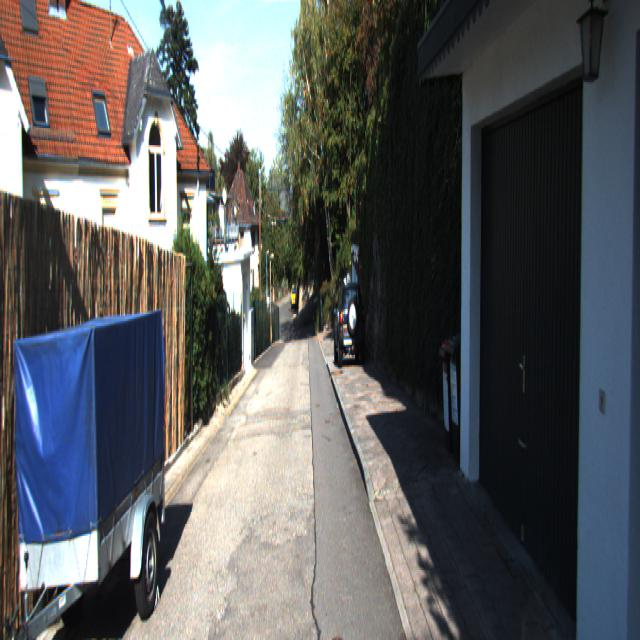Car: (15, 307, 166, 638), (332, 282, 367, 370)
